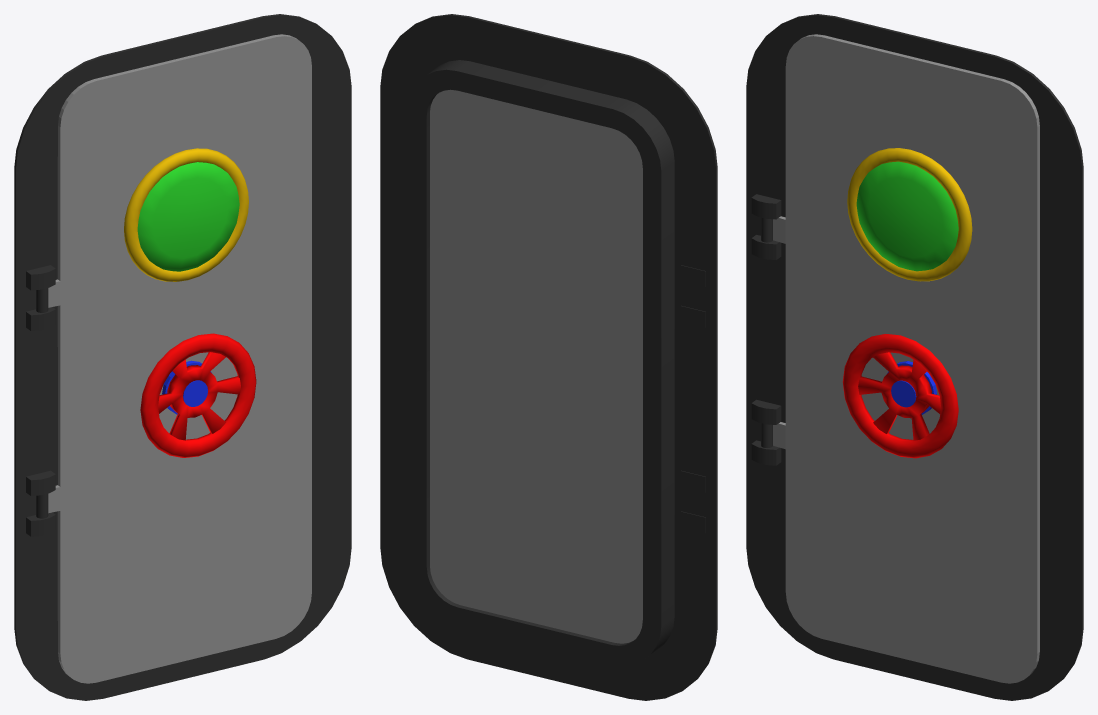
Rendered from MenuDoor.FBX.
3 renders of one model, left to right at view 1: azimuth 30°, elevation 25°; view 2: azimuth 150°, elevation 25°; view 3: azimuth 330°, elevation 25°, orthographic.
Visible parts, largest first — view 1: DoorLP, DoorRim, Wheel, Window, WindowRim, WheelAnchor; view 2: DoorLP, DoorRim; view 3: DoorLP, DoorRim, Wheel, Window, WindowRim, WheelAnchor.
Boxes of the visible parts, <box> form: DoorLP: <box>48,34,311,683</box>; DoorRim: <box>14,14,351,700</box>; Wheel: <box>140,333,256,457</box>; Window: <box>137,162,239,271</box>; WindowRim: <box>124,148,248,281</box>; WheelAnchor: <box>162,360,211,414</box>; DoorLP: <box>430,89,642,643</box>; DoorRim: <box>380,14,717,700</box>; DoorLP: <box>773,34,1039,683</box>; DoorRim: <box>746,14,1083,700</box>; Wheel: <box>842,334,958,458</box>; Window: <box>856,161,958,271</box>; WindowRim: <box>847,148,972,281</box>; WheelAnchor: <box>887,361,936,414</box>.
Size of the model in its own units: 109 by 17.92 by 199.
